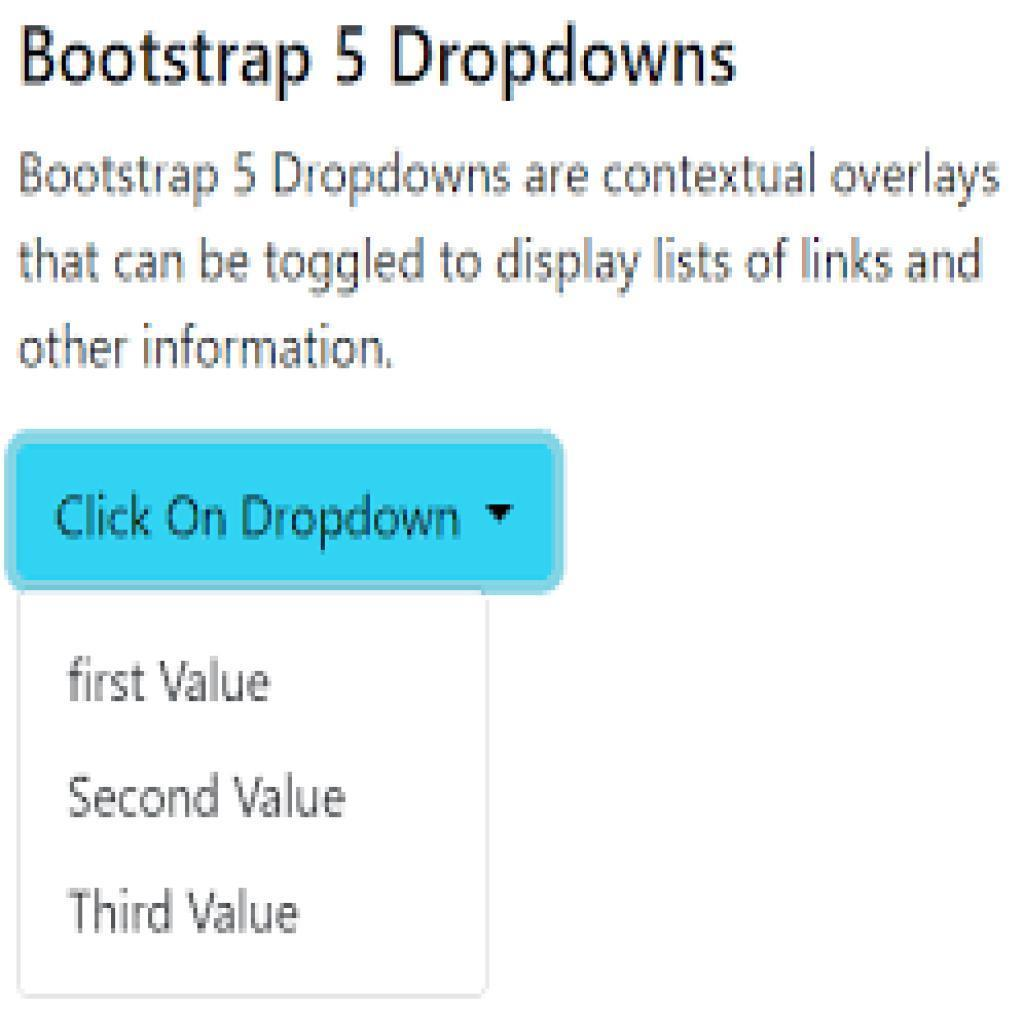dropdown: (7, 434, 562, 585)
